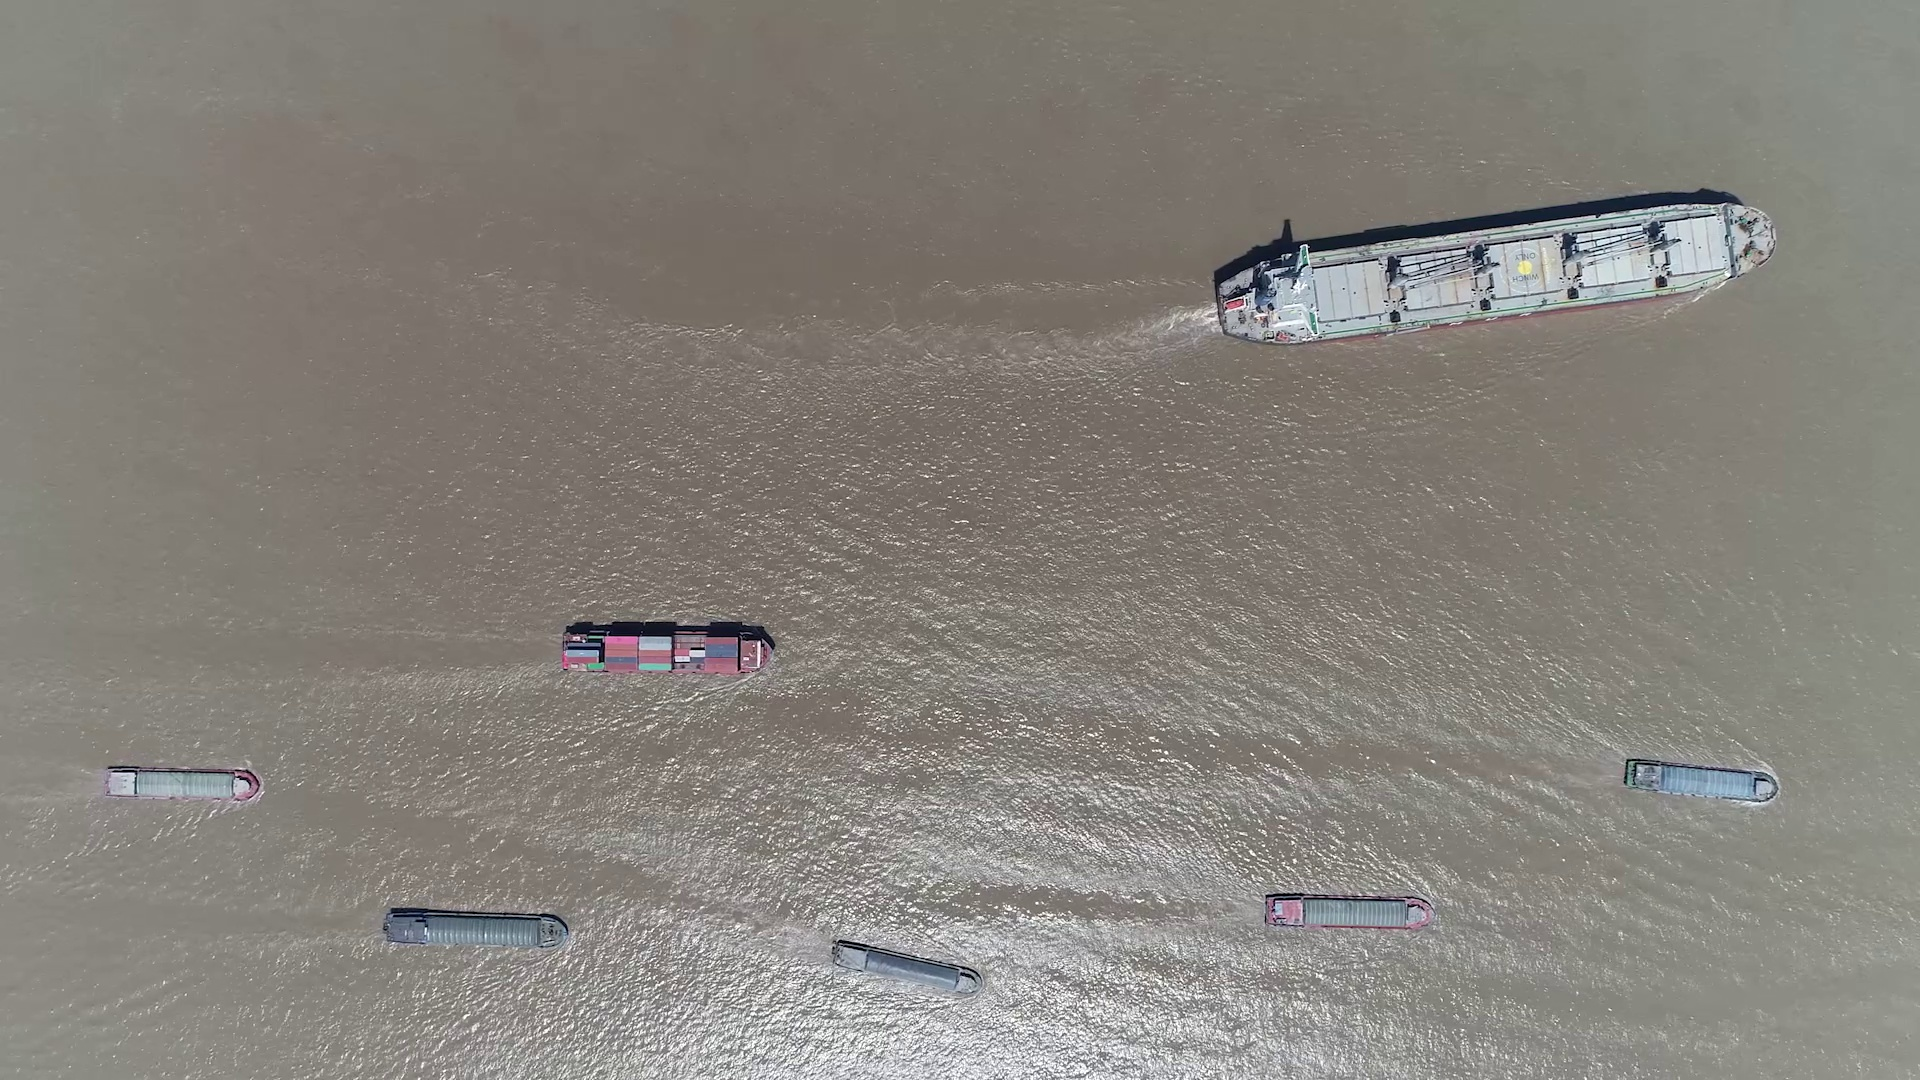ship: (1215, 200, 1776, 345), (559, 626, 771, 676), (831, 940, 980, 993), (382, 907, 568, 949), (1623, 757, 1780, 803), (1265, 893, 1435, 930), (100, 766, 260, 803)
